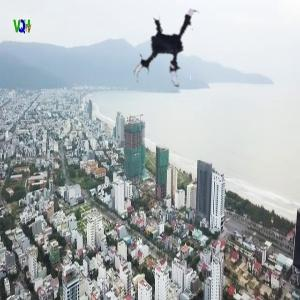drone: (124, 5, 220, 101)
